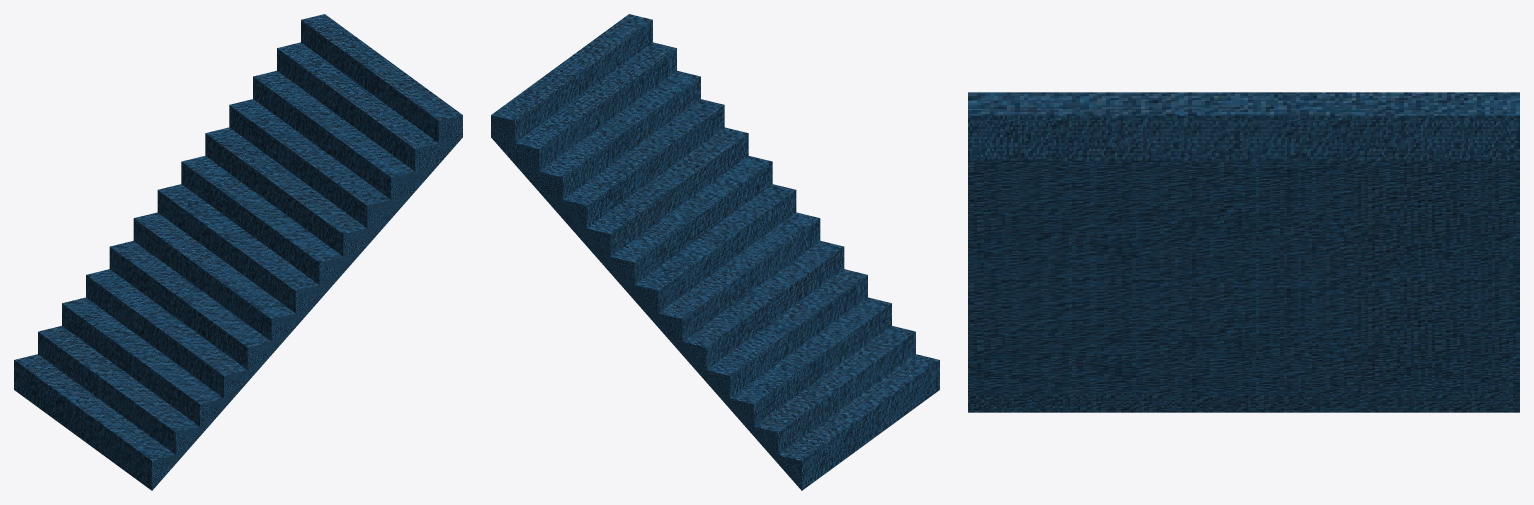
Rendered from stairs3.glb.
3 renders of one model, left to right at view 1: azimuth 30°, elevation 25°; view 2: azimuth 150°, elevation 25°; view 3: azimuth 270°, elevation 25°, orthographic. The views are drawn at different scales.
Parts seen in each view (by area): view 1: stairs3; view 2: stairs3; view 3: stairs3.
Part boxes in pixels (x1=…): stairs3: x1=14, y1=14, x2=462, y2=490; stairs3: x1=491, y1=14, x2=939, y2=490; stairs3: x1=968, y1=92, x2=1519, y2=412.
Size of the model in its own units: 2.6 by 2.4 by 2.
Materials: 1 (1 with a texture image).
